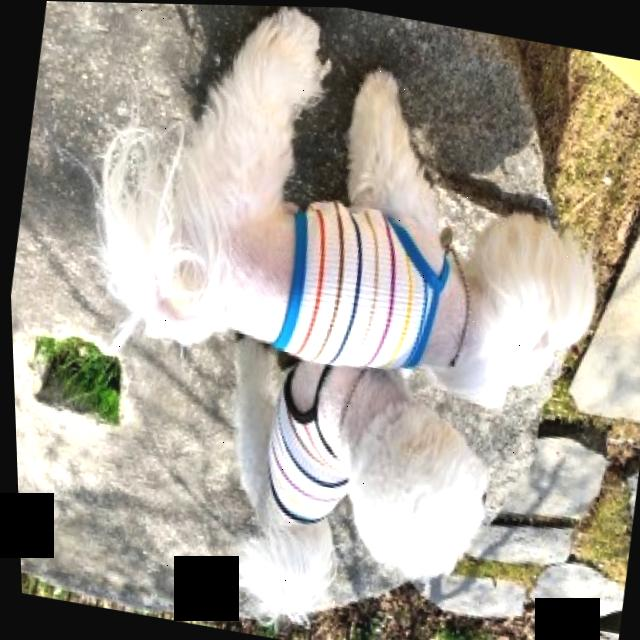cloth: (271, 201, 448, 365), (267, 365, 344, 521)
